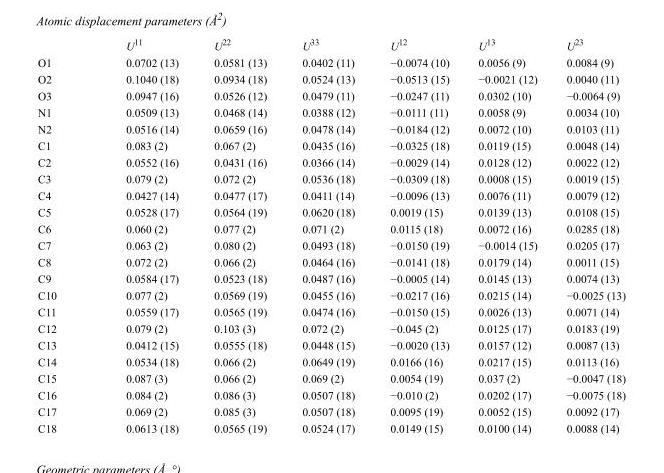table: (37, 36, 624, 434)
table column: (90, 36, 195, 434), (371, 36, 463, 434), (195, 36, 283, 434), (283, 36, 371, 434), (463, 36, 551, 434), (551, 36, 624, 434), (37, 36, 90, 434)
table column header: (37, 36, 624, 53)
table row: (37, 36, 624, 53), (37, 53, 624, 70), (37, 70, 624, 87), (37, 103, 624, 120), (37, 136, 624, 153), (37, 153, 624, 170), (37, 186, 624, 203), (37, 203, 624, 220), (37, 236, 624, 253), (37, 269, 624, 286), (37, 286, 624, 303), (37, 319, 624, 336), (37, 336, 624, 353), (37, 369, 624, 386), (37, 402, 624, 419), (37, 87, 624, 103), (37, 120, 624, 136), (37, 170, 624, 186), (37, 220, 624, 236), (37, 253, 624, 269), (37, 303, 624, 319), (37, 353, 624, 369), (37, 386, 624, 402), (37, 419, 624, 434)
